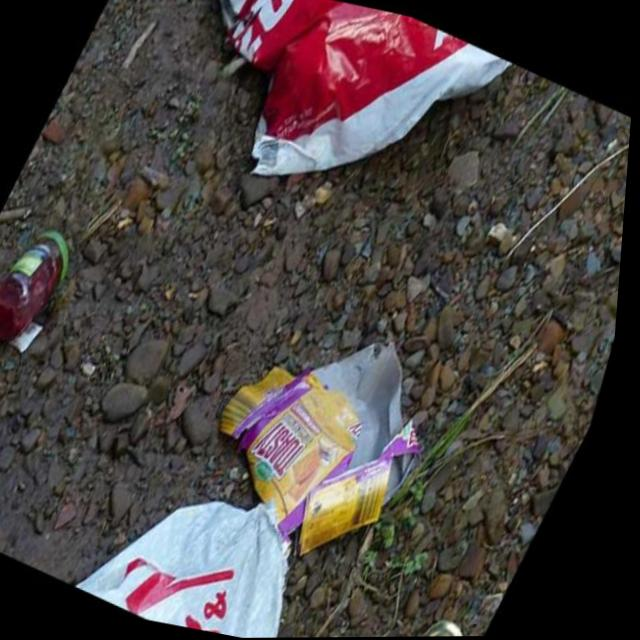clothes: (391, 578, 509, 638)
leaf: (149, 227, 534, 600), (0, 202, 104, 376), (278, 197, 287, 207)
metal: (126, 0, 519, 274), (45, 425, 363, 640)
